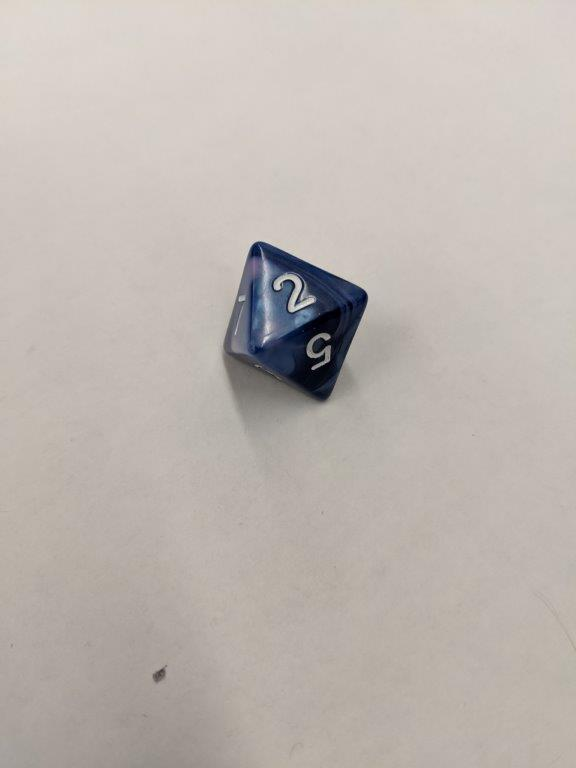d8-2: (225, 241, 368, 404)
